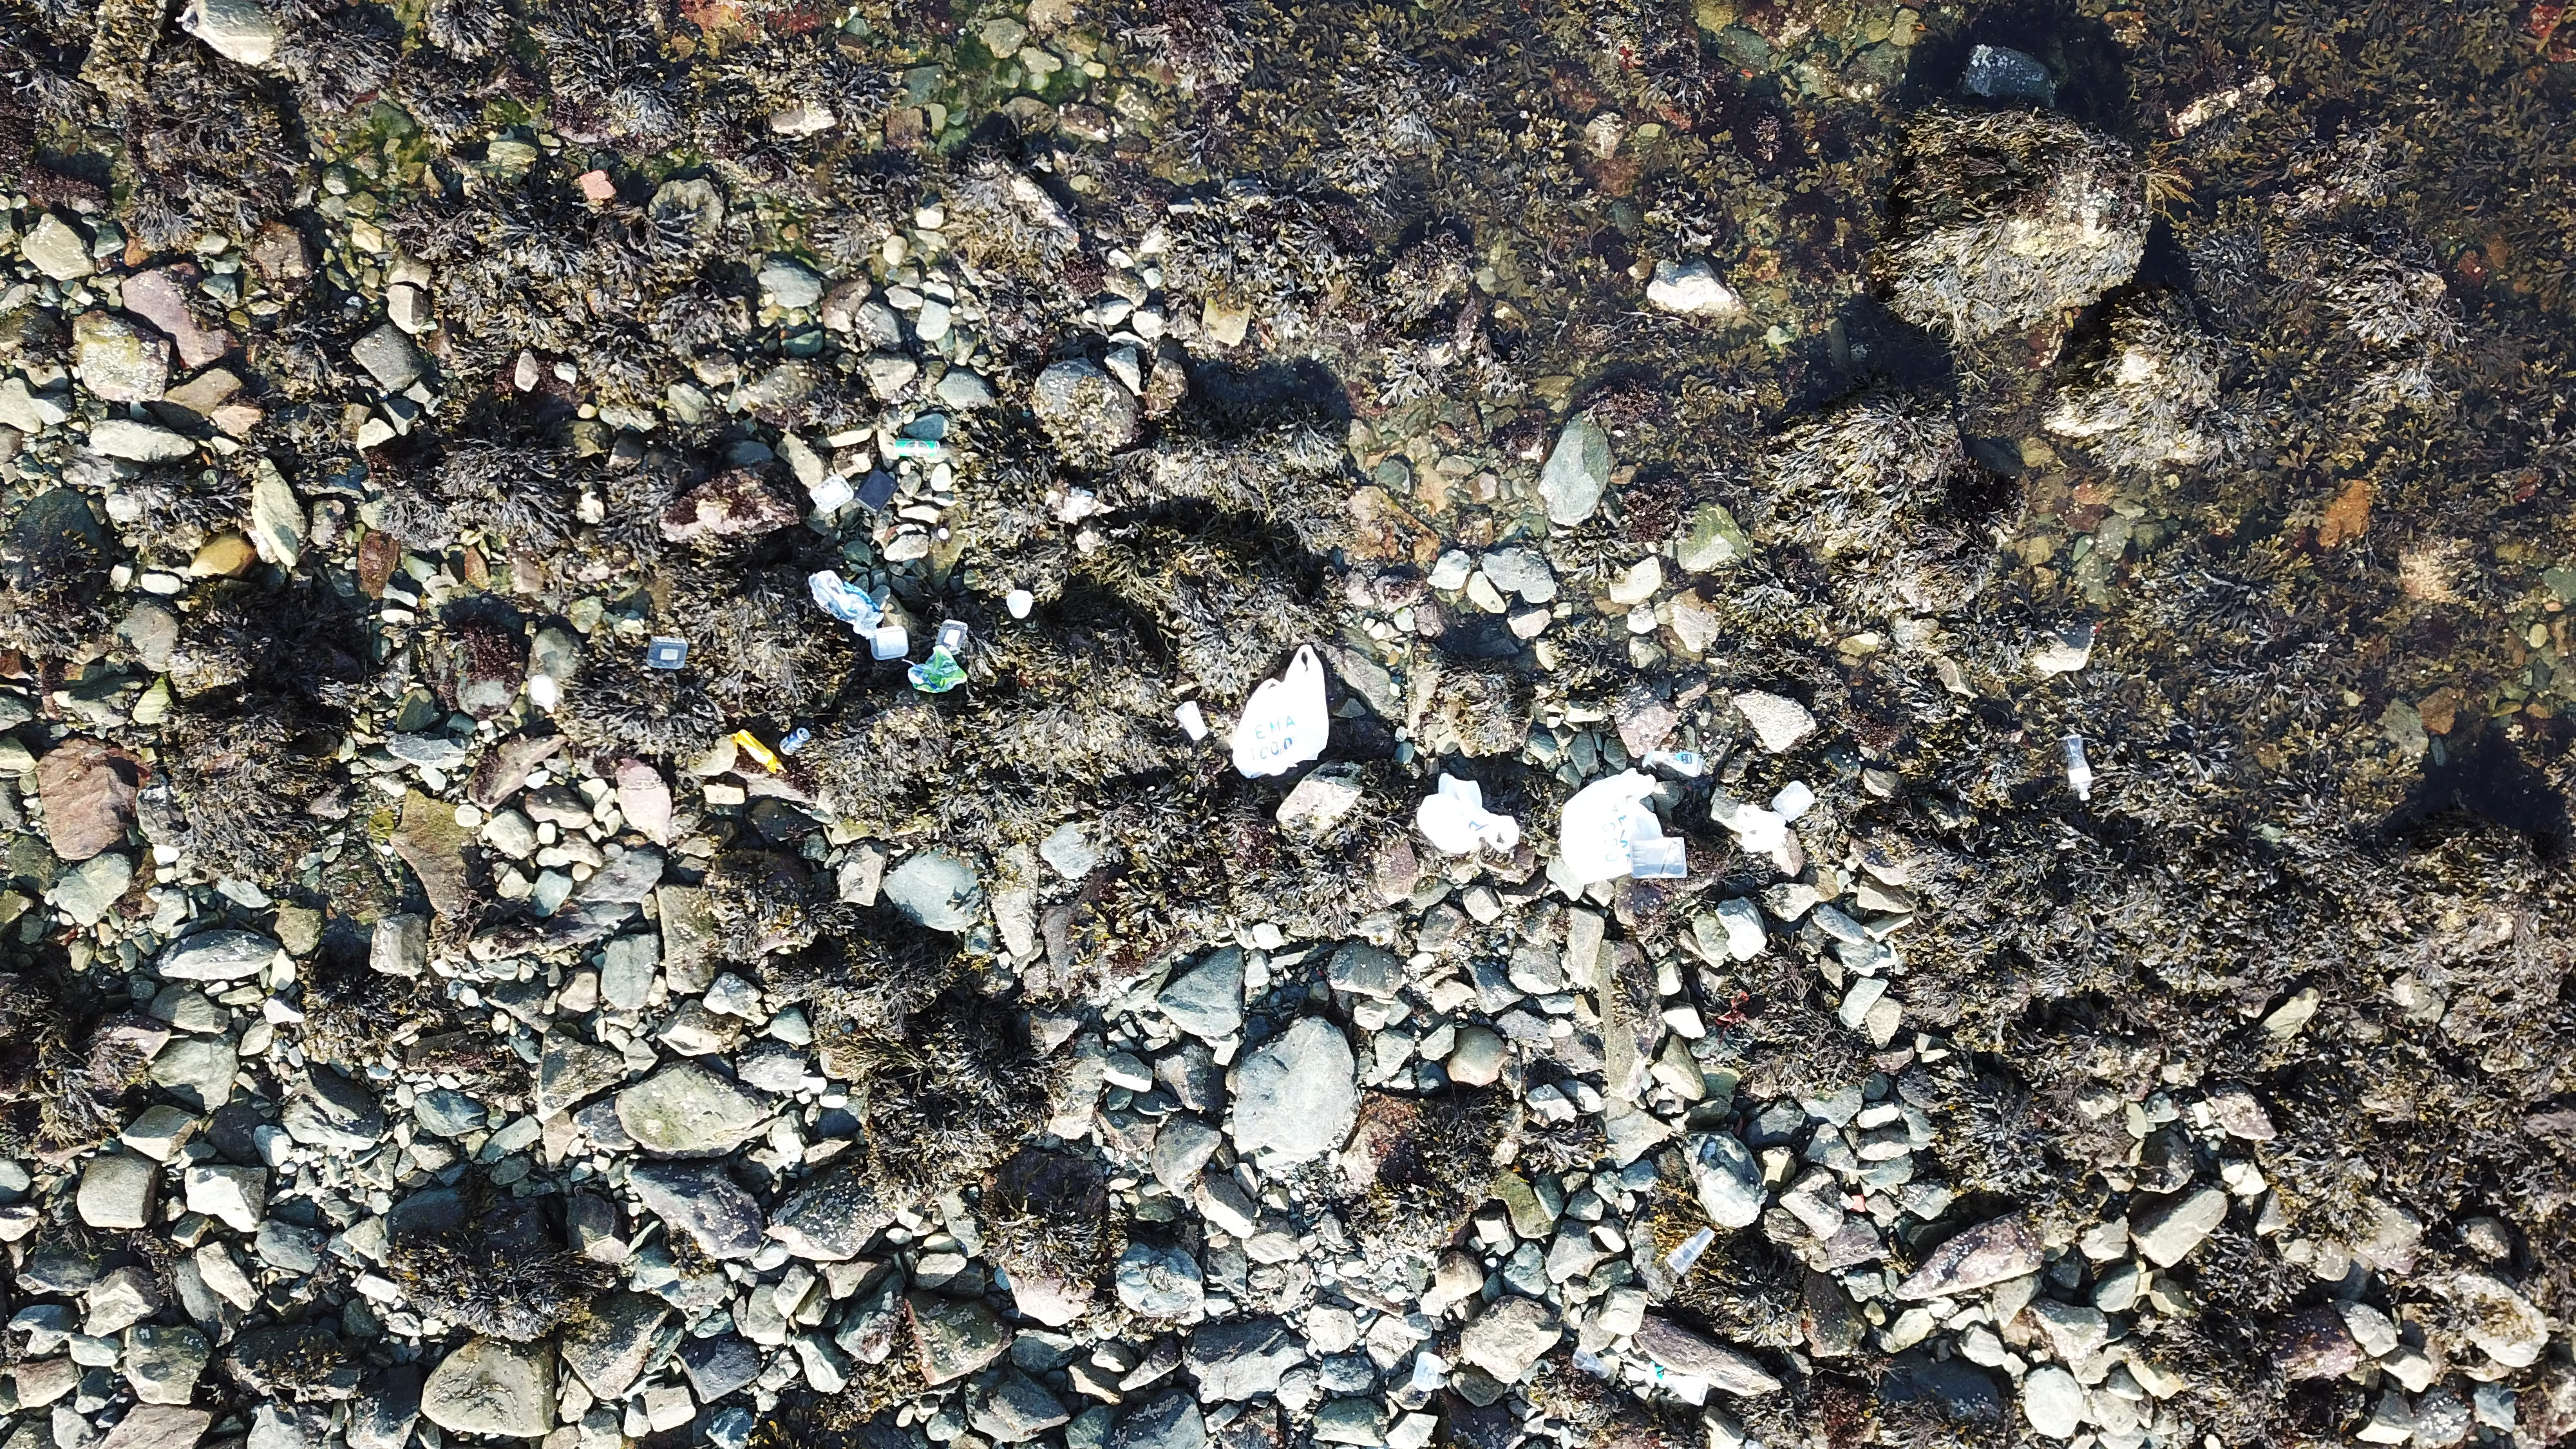Can: (892, 437, 945, 460), (780, 724, 812, 755)
Plastic: (1230, 644, 1330, 778), (1560, 766, 1665, 886), (1415, 771, 1522, 856), (810, 570, 886, 637), (904, 642, 971, 694), (1644, 1359, 1709, 1408), (1626, 837, 1691, 881), (1732, 803, 1790, 853), (1663, 1224, 1716, 1276), (734, 729, 789, 777), (855, 467, 901, 515), (809, 472, 856, 513), (1644, 748, 1707, 778), (1771, 780, 1817, 821), (646, 635, 690, 672), (869, 625, 911, 662), (1173, 699, 1210, 741), (1412, 1350, 1447, 1392), (1569, 1345, 1612, 1378), (939, 617, 970, 656), (1005, 587, 1033, 621)
PlasticBottle: (2061, 732, 2095, 805)
